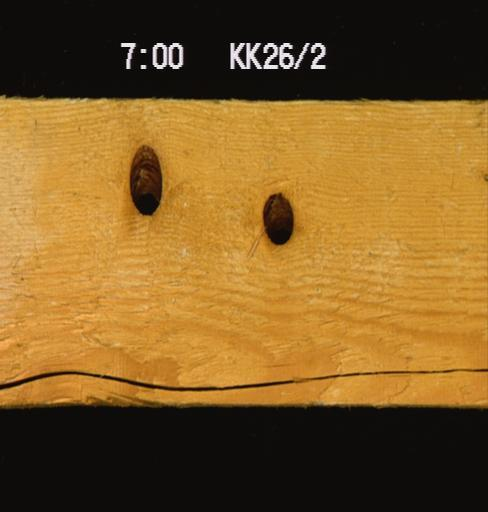split: (0, 364, 487, 393)
